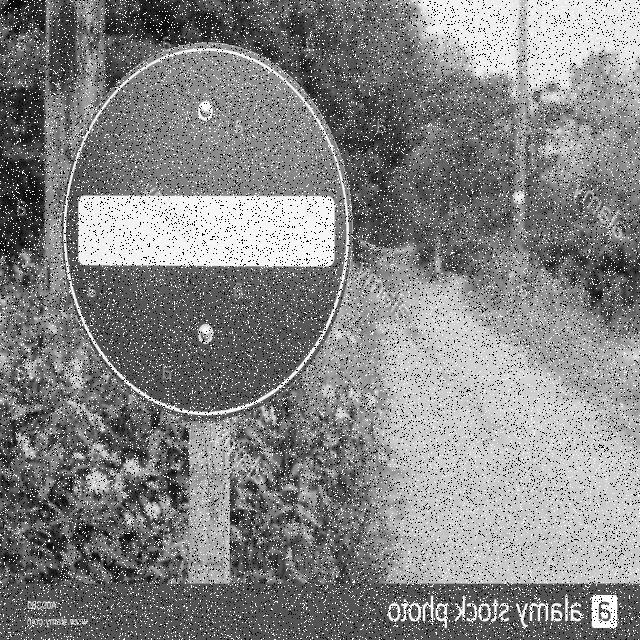no entry: (64, 43, 351, 422)
